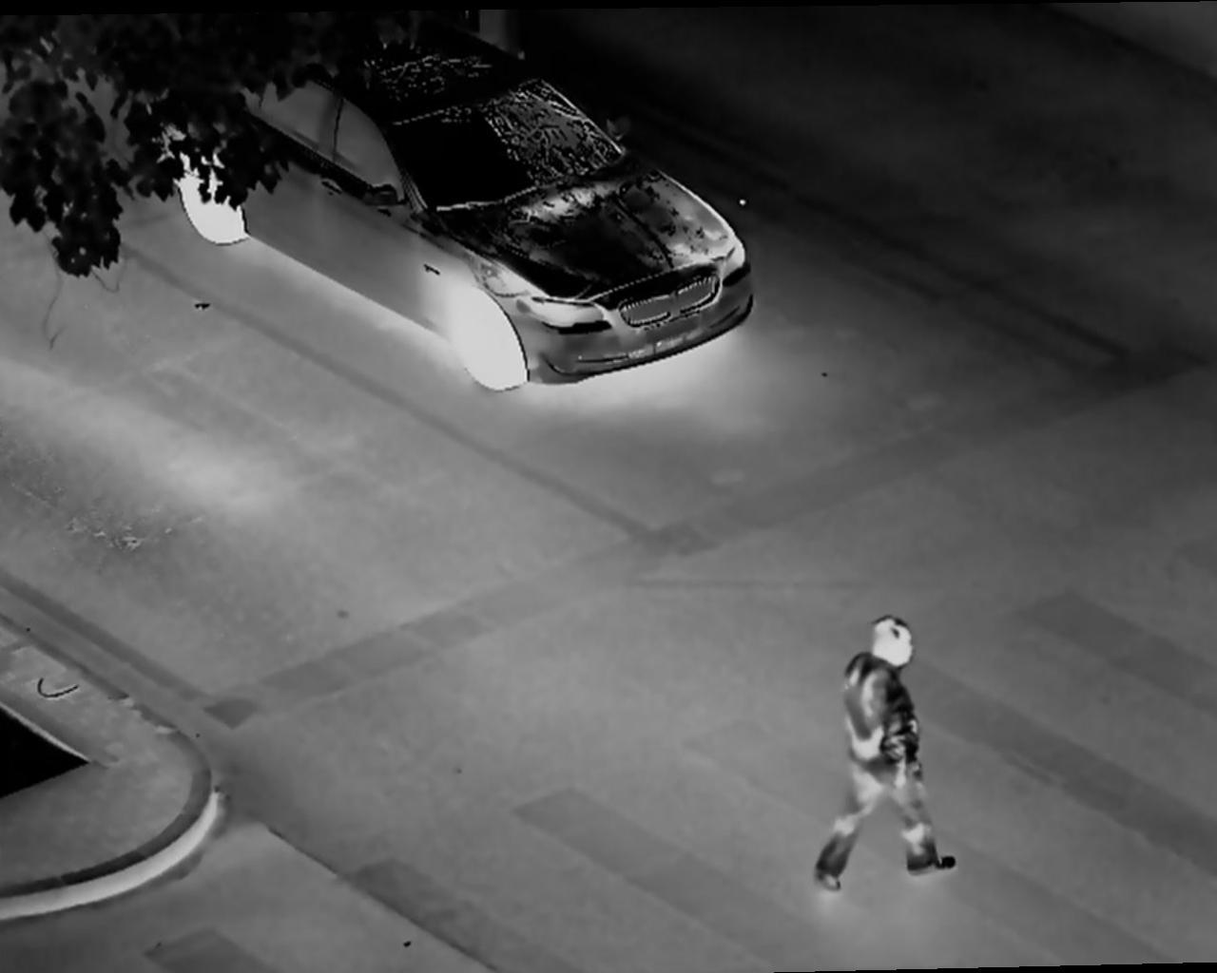person: (819, 609, 971, 888)
